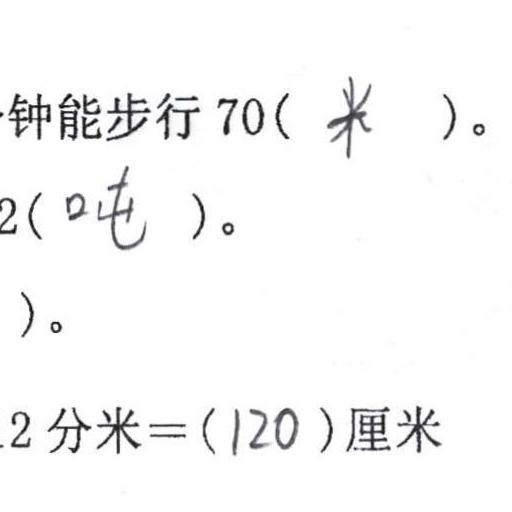ans: (62, 162, 151, 251), (323, 71, 377, 161), (224, 397, 299, 456)
